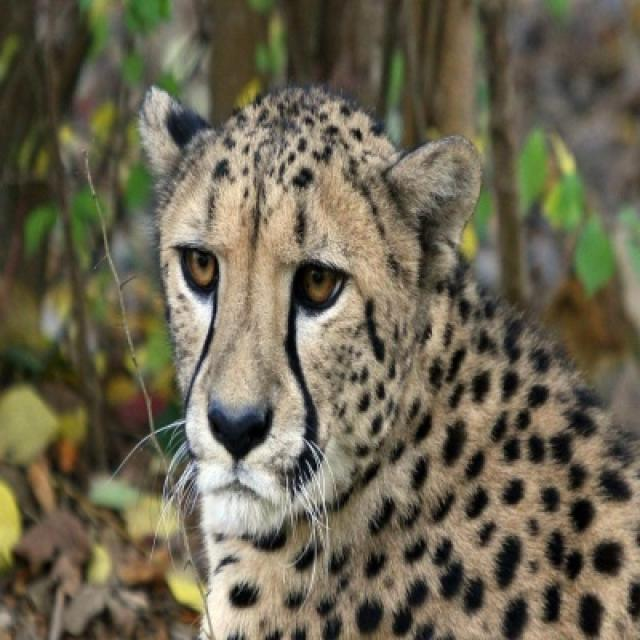Cheetah: (138, 85, 638, 638)
